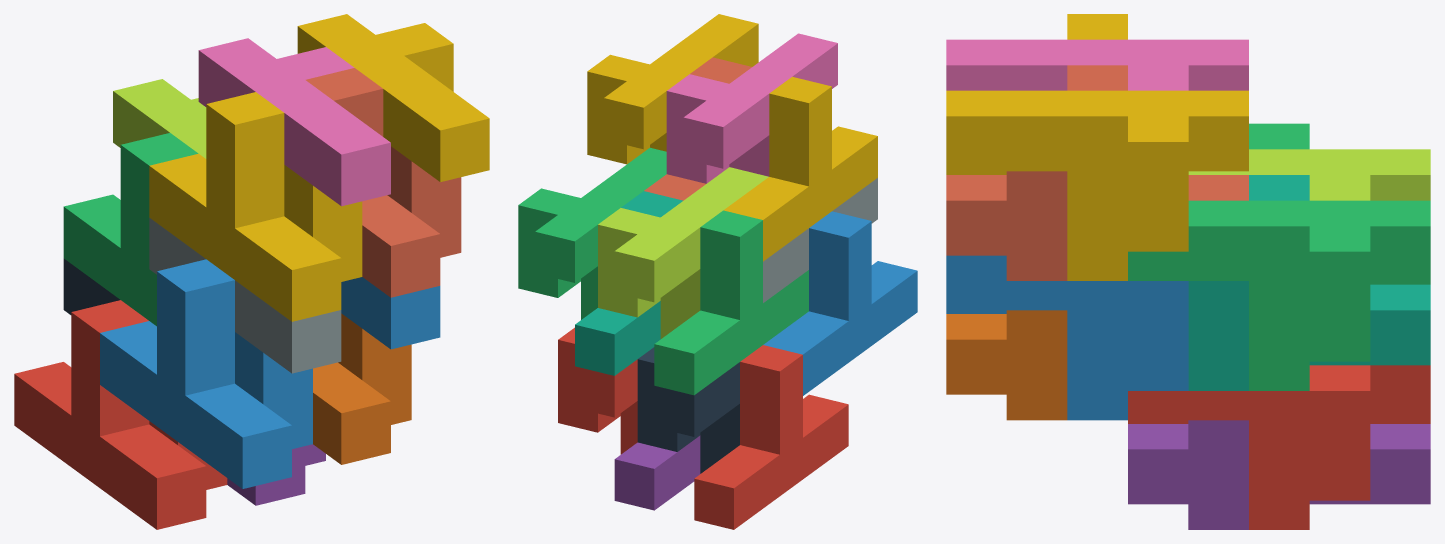
Rendered from tiling.obj.
3 views of the same model, side by side, from view 1: azimuth 30°, elevation 25°; view 2: azimuth 150°, elevation 25°; view 3: azimuth 270°, elevation 25° (orthographic). The views are drawn at different scales.
Visible parts, largest first — view 1: copy_1_domain_4, copy_1_domain_2, copy_1_domain_1, copy_2_domain_4, copy_2_domain_8, copy_1_domain_8, copy_1_domain_3, copy_1_domain_6, copy_2_domain_2, copy_2_domain_3, copy_2_domain_6, copy_1_domain_5 (+1 smaller); view 2: copy_1_domain_1, copy_1_domain_3, copy_1_domain_4, copy_1_domain_2, copy_2_domain_4, copy_2_domain_3, copy_2_domain_8, copy_2_domain_7, copy_2_domain_1, copy_2_domain_5, copy_1_domain_7, copy_1_domain_5 (+2 smaller); view 3: copy_2_domain_8, copy_2_domain_7, copy_2_domain_5, copy_2_domain_6, copy_1_domain_5, copy_1_domain_8, copy_2_domain_4, copy_1_domain_7, copy_1_domain_6, copy_2_domain_3, copy_1_domain_3, copy_1_domain_4.
Part boxes in pixels (bbox=[...]): copy_1_domain_4: bbox=[149, 92, 362, 321]; copy_1_domain_2: bbox=[100, 259, 312, 488]; copy_1_domain_1: bbox=[14, 300, 227, 529]; copy_2_domain_4: bbox=[198, 38, 390, 206]; copy_2_domain_8: bbox=[297, 14, 489, 181]; copy_1_domain_8: bbox=[306, 68, 461, 297]; copy_1_domain_3: bbox=[63, 133, 198, 326]; copy_1_domain_6: bbox=[313, 313, 411, 464]; copy_2_domain_2: bbox=[149, 218, 341, 373]; copy_2_domain_3: bbox=[113, 79, 206, 158]; copy_2_domain_6: bbox=[341, 277, 440, 349]; copy_1_domain_5: bbox=[227, 444, 325, 505]; copy_1_domain_1: bbox=[694, 345, 848, 529]; copy_1_domain_3: bbox=[654, 210, 808, 395]; copy_1_domain_4: bbox=[723, 76, 877, 261]; copy_1_domain_2: bbox=[763, 211, 917, 395]; copy_2_domain_4: bbox=[666, 33, 837, 183]; copy_2_domain_3: bbox=[598, 167, 768, 338]; copy_2_domain_8: bbox=[587, 14, 758, 164]; copy_2_domain_7: bbox=[518, 147, 666, 319]; copy_2_domain_1: bbox=[637, 347, 739, 473]; copy_2_domain_5: bbox=[558, 327, 637, 454]; copy_1_domain_7: bbox=[575, 191, 682, 375]; copy_1_domain_5: bbox=[614, 435, 700, 510]; copy_2_domain_8: bbox=[946, 90, 1248, 280]; copy_2_domain_7: bbox=[1128, 200, 1430, 390]; copy_2_domain_5: bbox=[1128, 365, 1430, 529]; copy_2_domain_6: bbox=[946, 255, 1188, 420]; copy_1_domain_5: bbox=[1128, 420, 1430, 529]; copy_1_domain_8: bbox=[946, 65, 1248, 280]; copy_2_domain_4: bbox=[946, 39, 1248, 90]; copy_1_domain_7: bbox=[1188, 175, 1430, 390]; copy_1_domain_6: bbox=[946, 310, 1067, 420]; copy_2_domain_3: bbox=[1188, 149, 1430, 200]; copy_1_domain_3: bbox=[1249, 123, 1430, 284]; copy_1_domain_4: bbox=[946, 14, 1127, 174].
Bounding box in the file's own units: 6 × 8 × 8.
